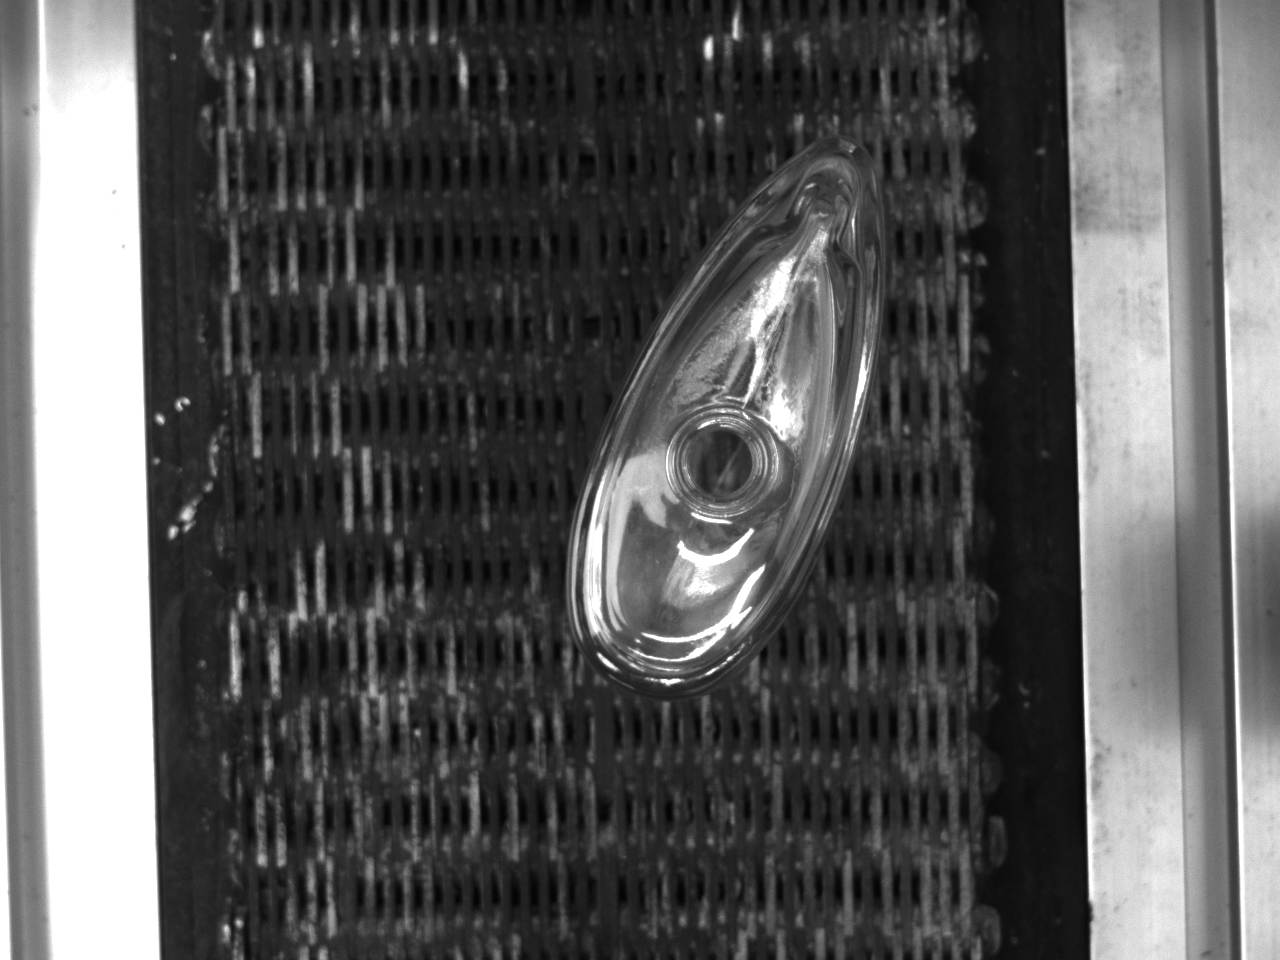bottleneck: (669, 407, 779, 518)
